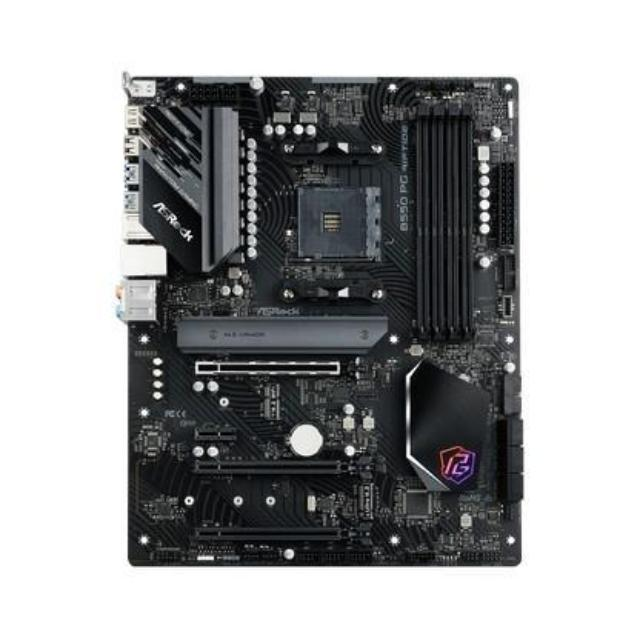Mainboard: (115, 70, 530, 572)
